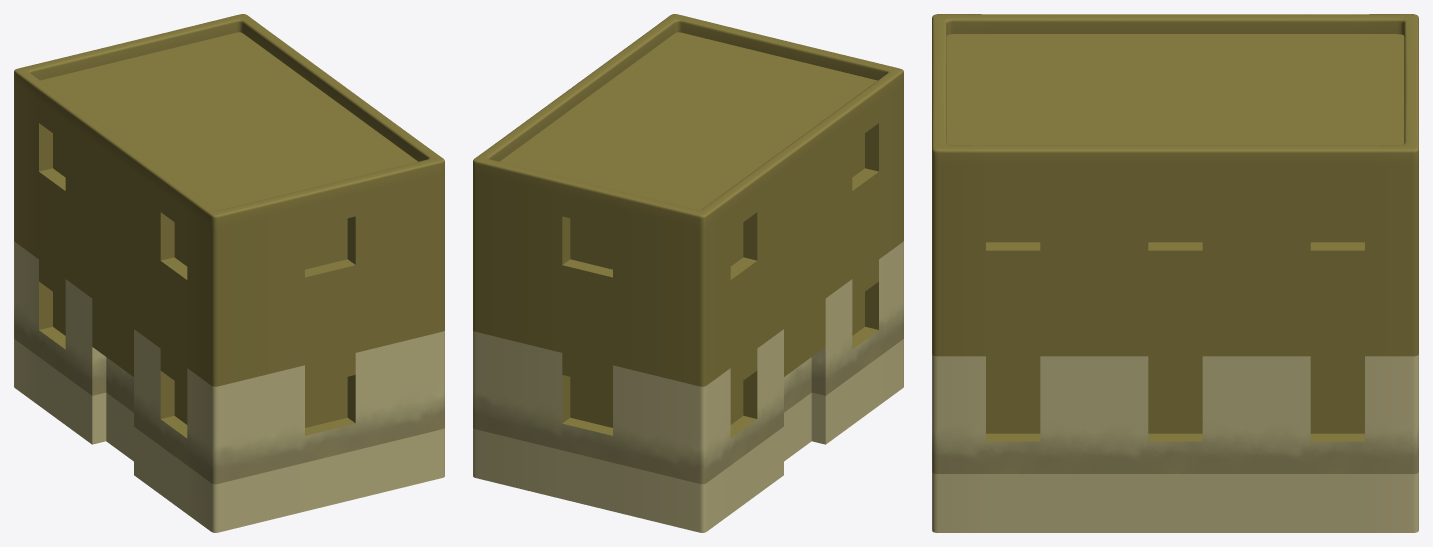
Rendered from CasaAlta.FBX.
3 renders of one model, left to right at view 1: azimuth 30°, elevation 25°; view 2: azimuth 150°, elevation 25°; view 3: azimuth 270°, elevation 25°, orthographic. The views are drawn at different scales.
Parts seen in each view (by area): view 1: Box003, Box002; view 2: Box003, Box002; view 3: Box003, Box002.
Boxes of the visible parts, <box> form: Box003: <box>14,14,444,374</box>; Box002: <box>14,229,444,532</box>; Box003: <box>473,14,903,374</box>; Box002: <box>473,229,903,532</box>; Box003: <box>932,14,1418,341</box>; Box002: <box>932,339,1418,532</box>.
Size of the model in its own units: 10 by 13 by 15.
2 materials, 1 textured.
